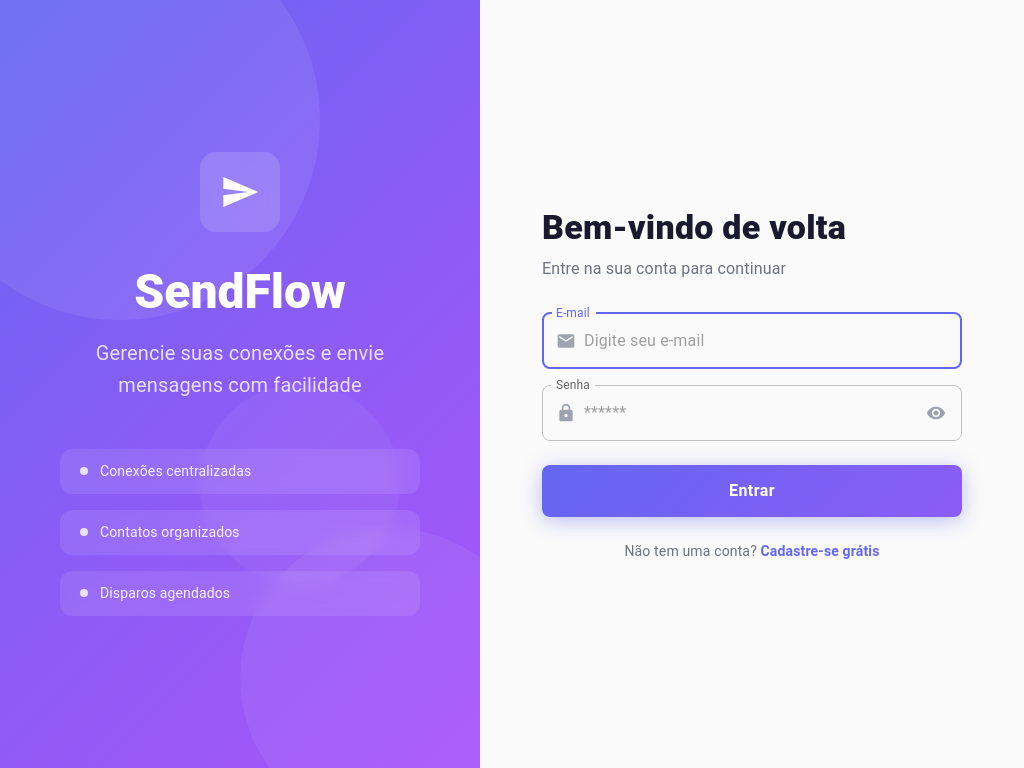
LoginPage › shows validation error when email is empty
Click the button "Entrar" at coordinates (752, 491), box left=542, top=465, right=962, bottom=517
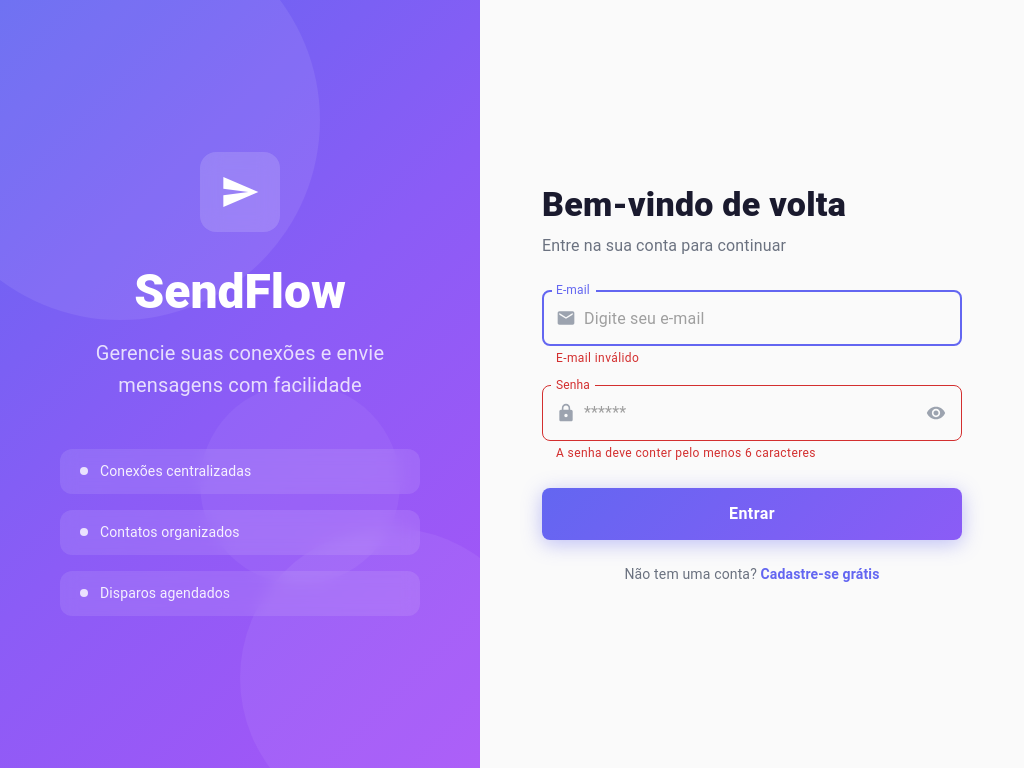
Result: the text "E-mail inválido" is shown at left=556, top=351, right=639, bottom=365
